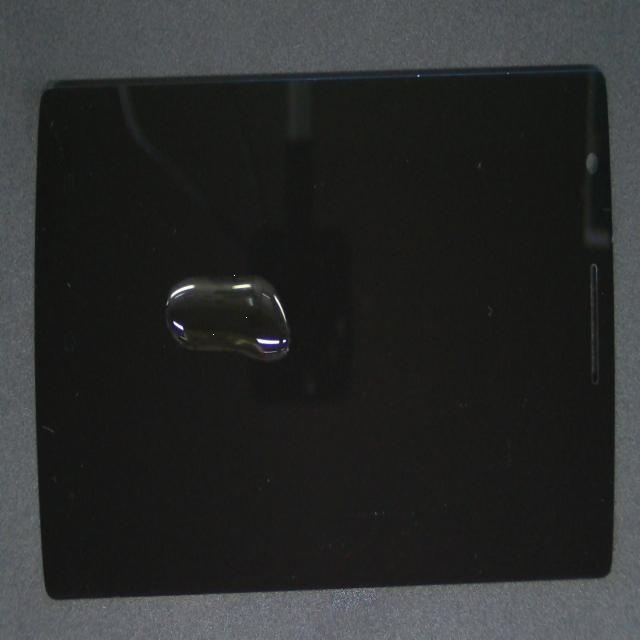oil: (153, 110, 301, 416)
